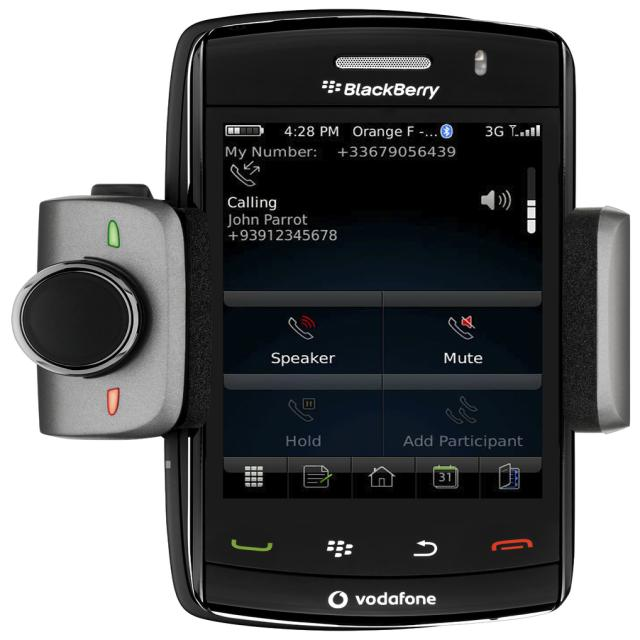Mobile-phone: (158, 4, 576, 633)
